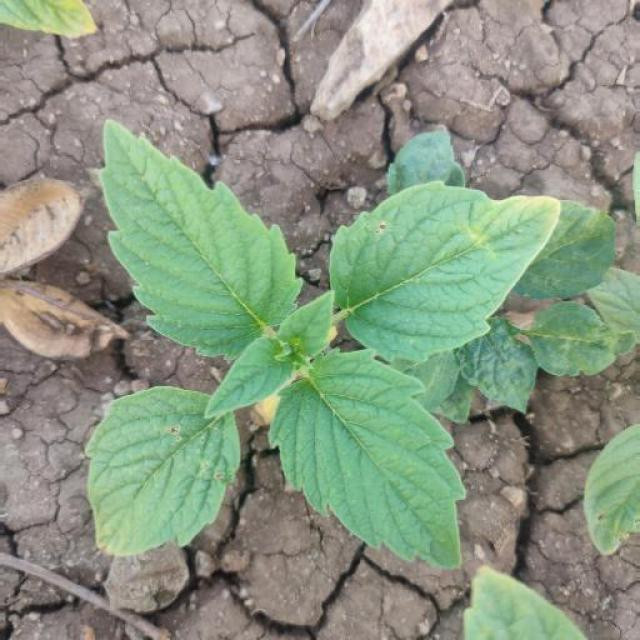crop: (70, 123, 584, 592)
